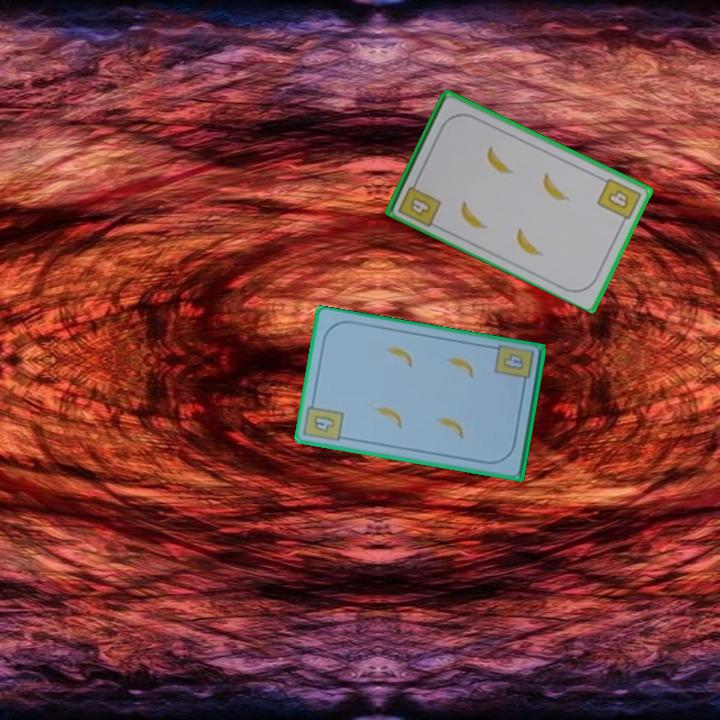4b: (593, 174, 644, 228), (395, 175, 444, 229), (302, 396, 346, 444), (499, 350, 526, 373)
